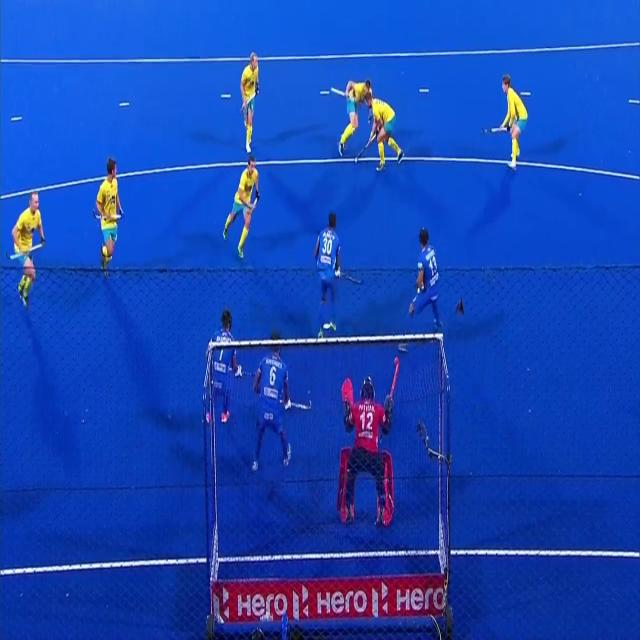ball: (350, 153, 362, 166)
